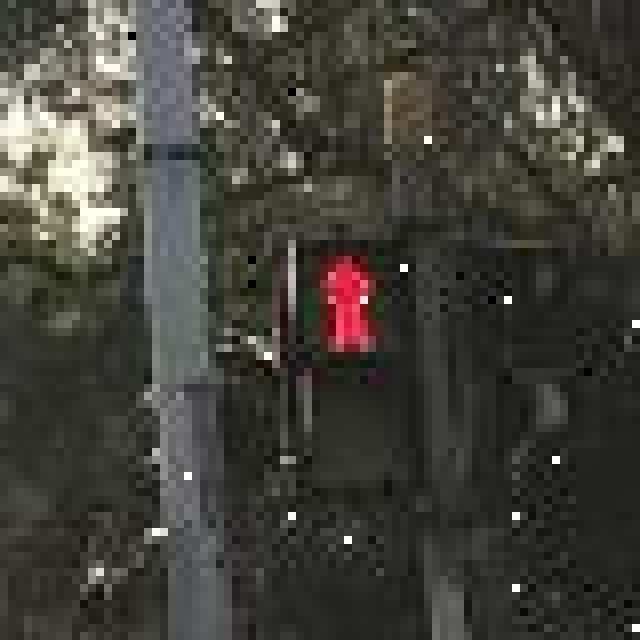redlight: (270, 222, 445, 540)
